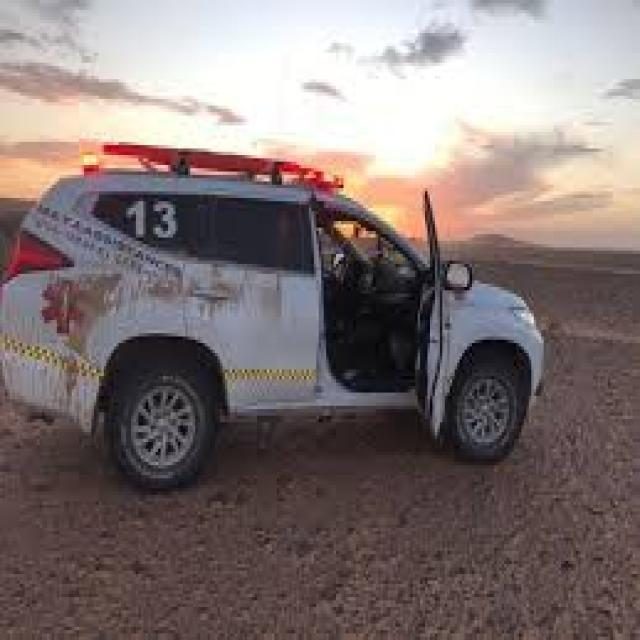ambulance: (4, 128, 558, 514)
